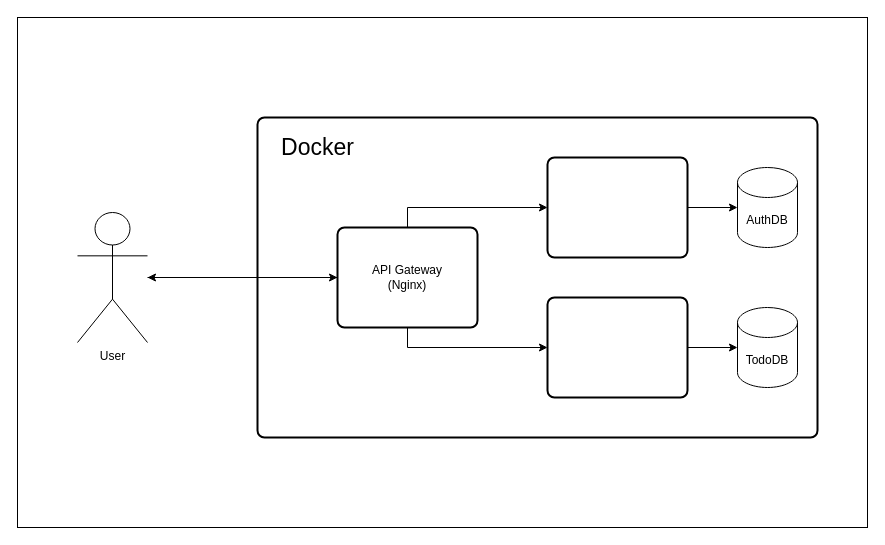
This 885x545 diagram has some shape labels left out. The shapes that lost their labels are listed below. From the top down, each one's centre as x and y in pixels, then its label:
At [617,207]: "Auth Service (FastAPI)".
At [617,347]: "Todo Service (FastAPI)".
